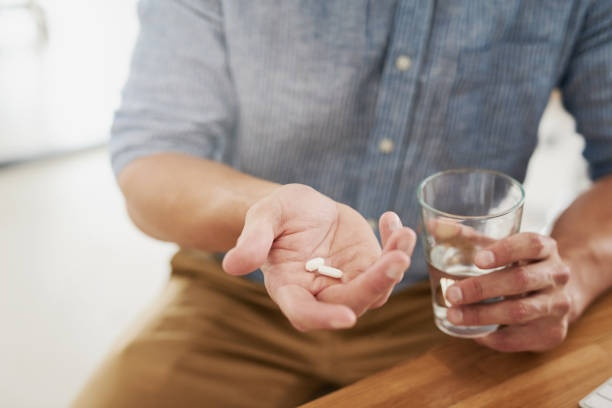pills: (302, 255, 327, 274), (316, 267, 344, 281)
